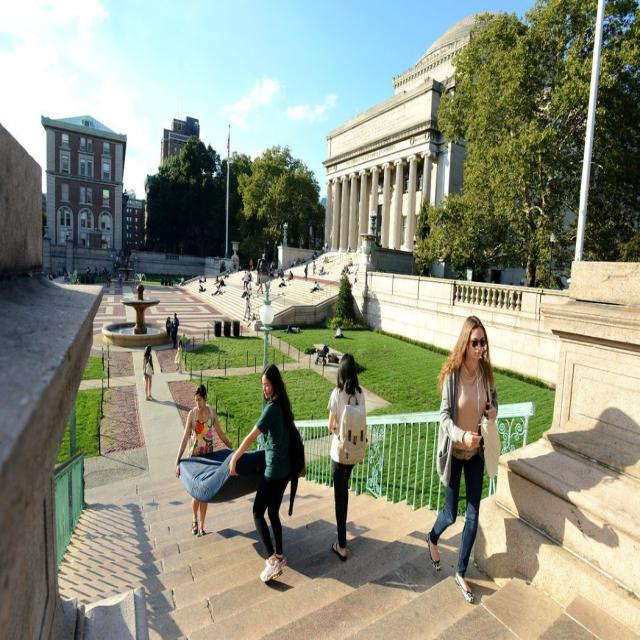body: (476, 399, 639, 590), (424, 314, 504, 608), (223, 363, 307, 584), (322, 350, 369, 563), (172, 381, 235, 537), (142, 342, 156, 401), (256, 248, 274, 275), (169, 311, 180, 350), (173, 338, 184, 374), (242, 296, 250, 321), (290, 256, 306, 268), (284, 323, 301, 334), (46, 268, 60, 281), (246, 267, 252, 297), (102, 266, 111, 286), (256, 273, 264, 295), (165, 316, 173, 337), (332, 323, 342, 339), (210, 284, 221, 298), (309, 279, 319, 293), (216, 276, 226, 290), (242, 269, 248, 291), (247, 293, 252, 317), (223, 266, 232, 279), (302, 263, 308, 281), (344, 256, 354, 266), (248, 256, 254, 272), (317, 264, 325, 276), (339, 266, 348, 276), (117, 271, 122, 288), (287, 269, 294, 281), (278, 278, 286, 288), (276, 268, 284, 278), (322, 254, 330, 264), (412, 233, 418, 246), (198, 283, 204, 295), (198, 276, 207, 284), (312, 249, 318, 261), (85, 266, 91, 278), (92, 264, 98, 276), (324, 240, 329, 254), (213, 274, 219, 285), (239, 291, 247, 299), (181, 332, 187, 342), (313, 259, 316, 276), (76, 277, 82, 285), (346, 247, 352, 254), (181, 276, 185, 286), (98, 266, 101, 276)
